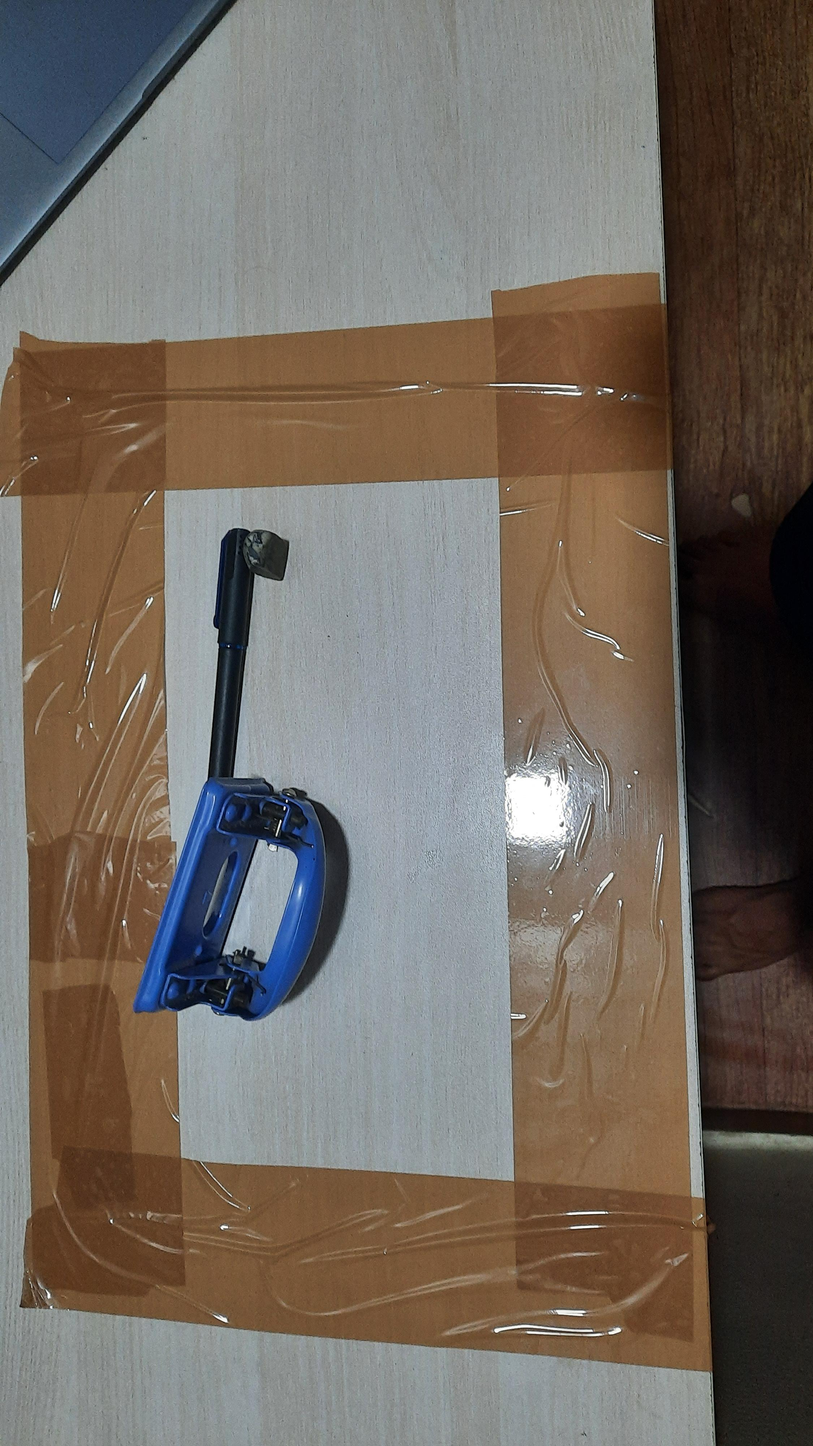Eraser: (241, 529, 289, 582)
Pen: (207, 528, 254, 782)
Punch: (133, 776, 328, 1022)
